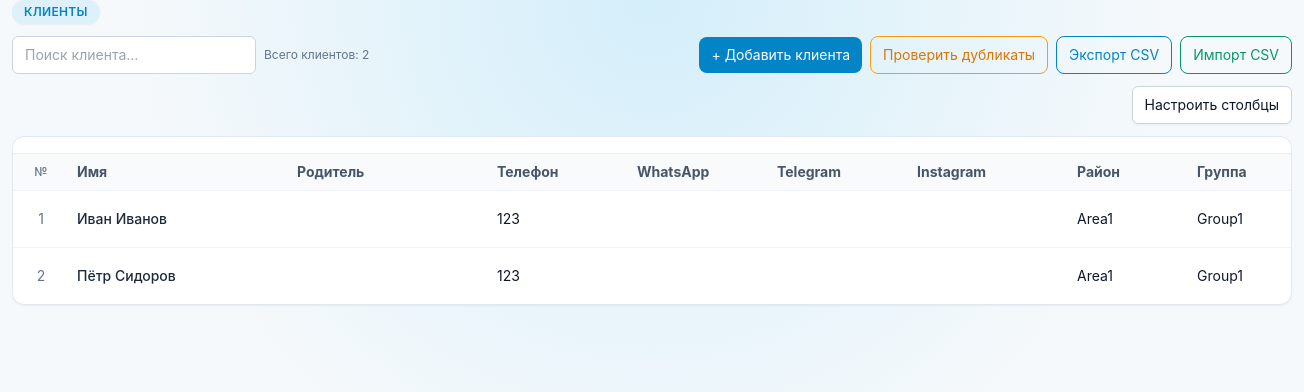
search filters clients by full name
The image size is (1304, 392).
Check: the text "Всего клиентов: 2" is shown, box top-left (264, 47), bottom-right (369, 63)
Check: the text "Иван Иванов" is shown, box top-left (77, 210), bottom-right (167, 227)
Step 1. Type "пётр" into the field with placeholder "Поиск клиента…" → (134, 55), box top-left (12, 36), bottom-right (256, 74)
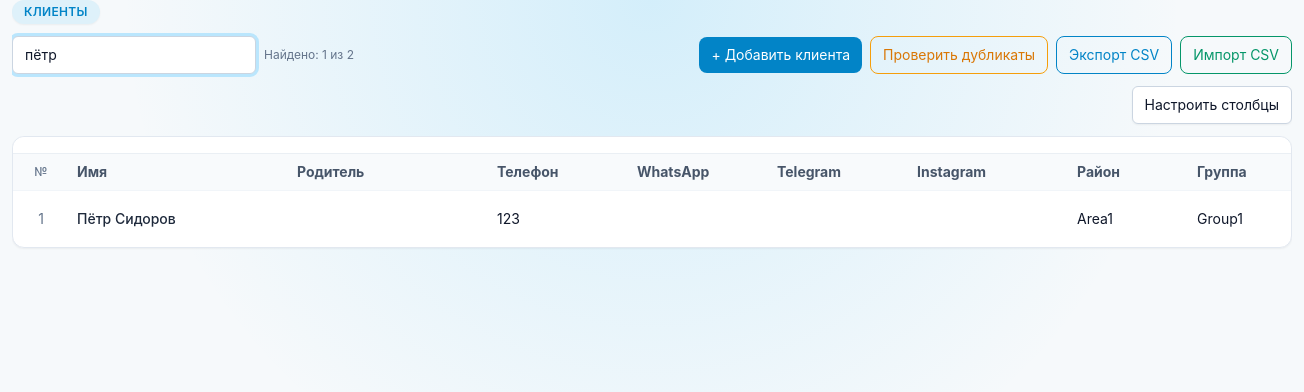
Check: the text "Пётр Сидоров" is shown, box top-left (77, 210), bottom-right (176, 227)
Check: the text "Найдено: 1 из 2" is shown, box top-left (264, 47), bottom-right (354, 63)
Check: the text "Иван Иванов" is gone
